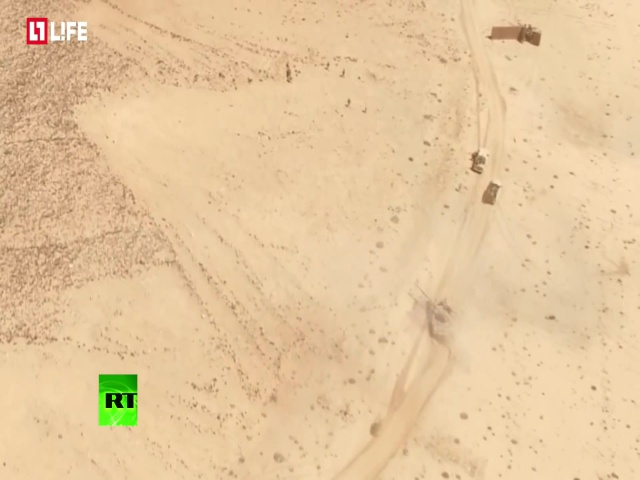vehicle: (425, 292, 457, 348), (478, 177, 504, 210), (468, 143, 490, 175)
